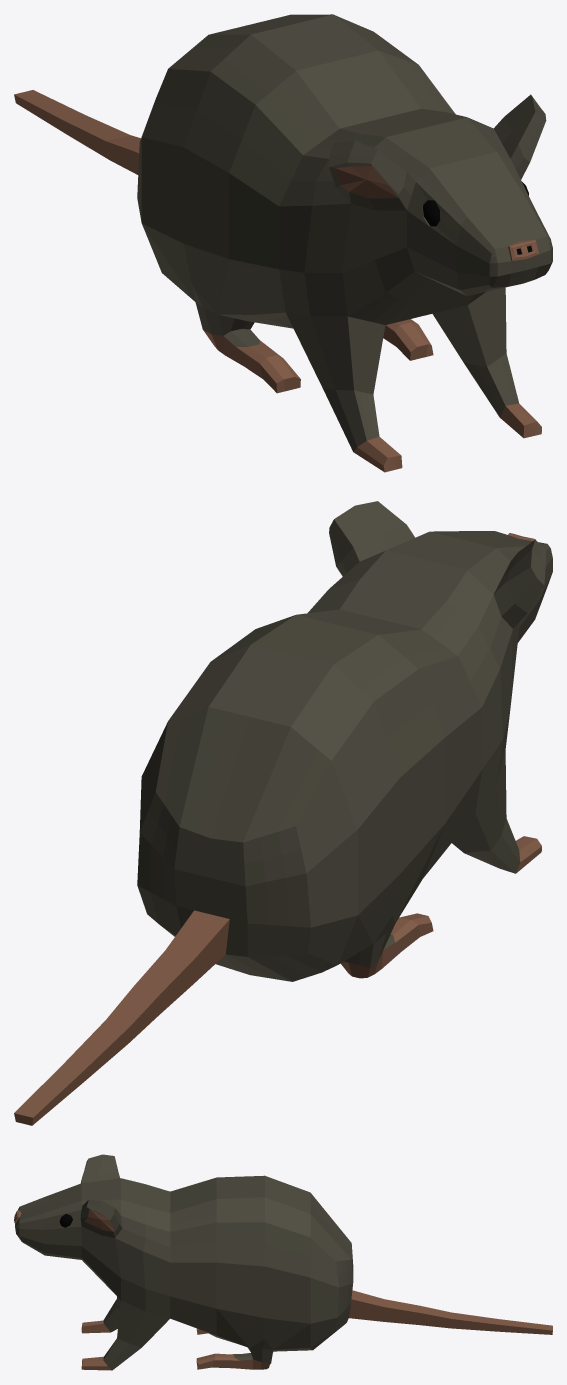
File: Rat.fbx
3 views of the same model, one above another, from view 1: azimuth 30°, elevation 25°; view 2: azimuth 150°, elevation 25°; view 3: azimuth 270°, elevation 25° (orthographic). The views are drawn at different scales.
Visible parts, largest first — view 1: Rat; view 2: Rat; view 3: Rat.
Part boxes in pixels (x1,y1,x2,y2): Rat: [14, 14, 552, 472]; Rat: [14, 501, 552, 1125]; Rat: [14, 1154, 552, 1370].
Bounding box in the file's own units: 9.37 × 13.25 × 37.7.
